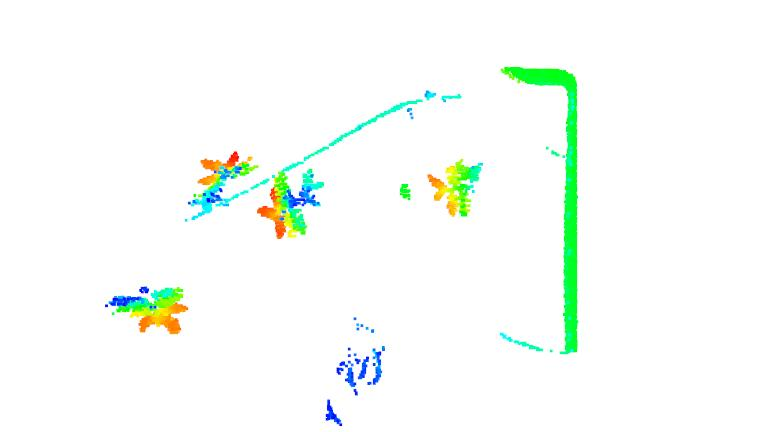chickpea: (256, 168, 324, 241), (103, 285, 189, 334), (194, 147, 259, 204), (426, 160, 487, 219)
